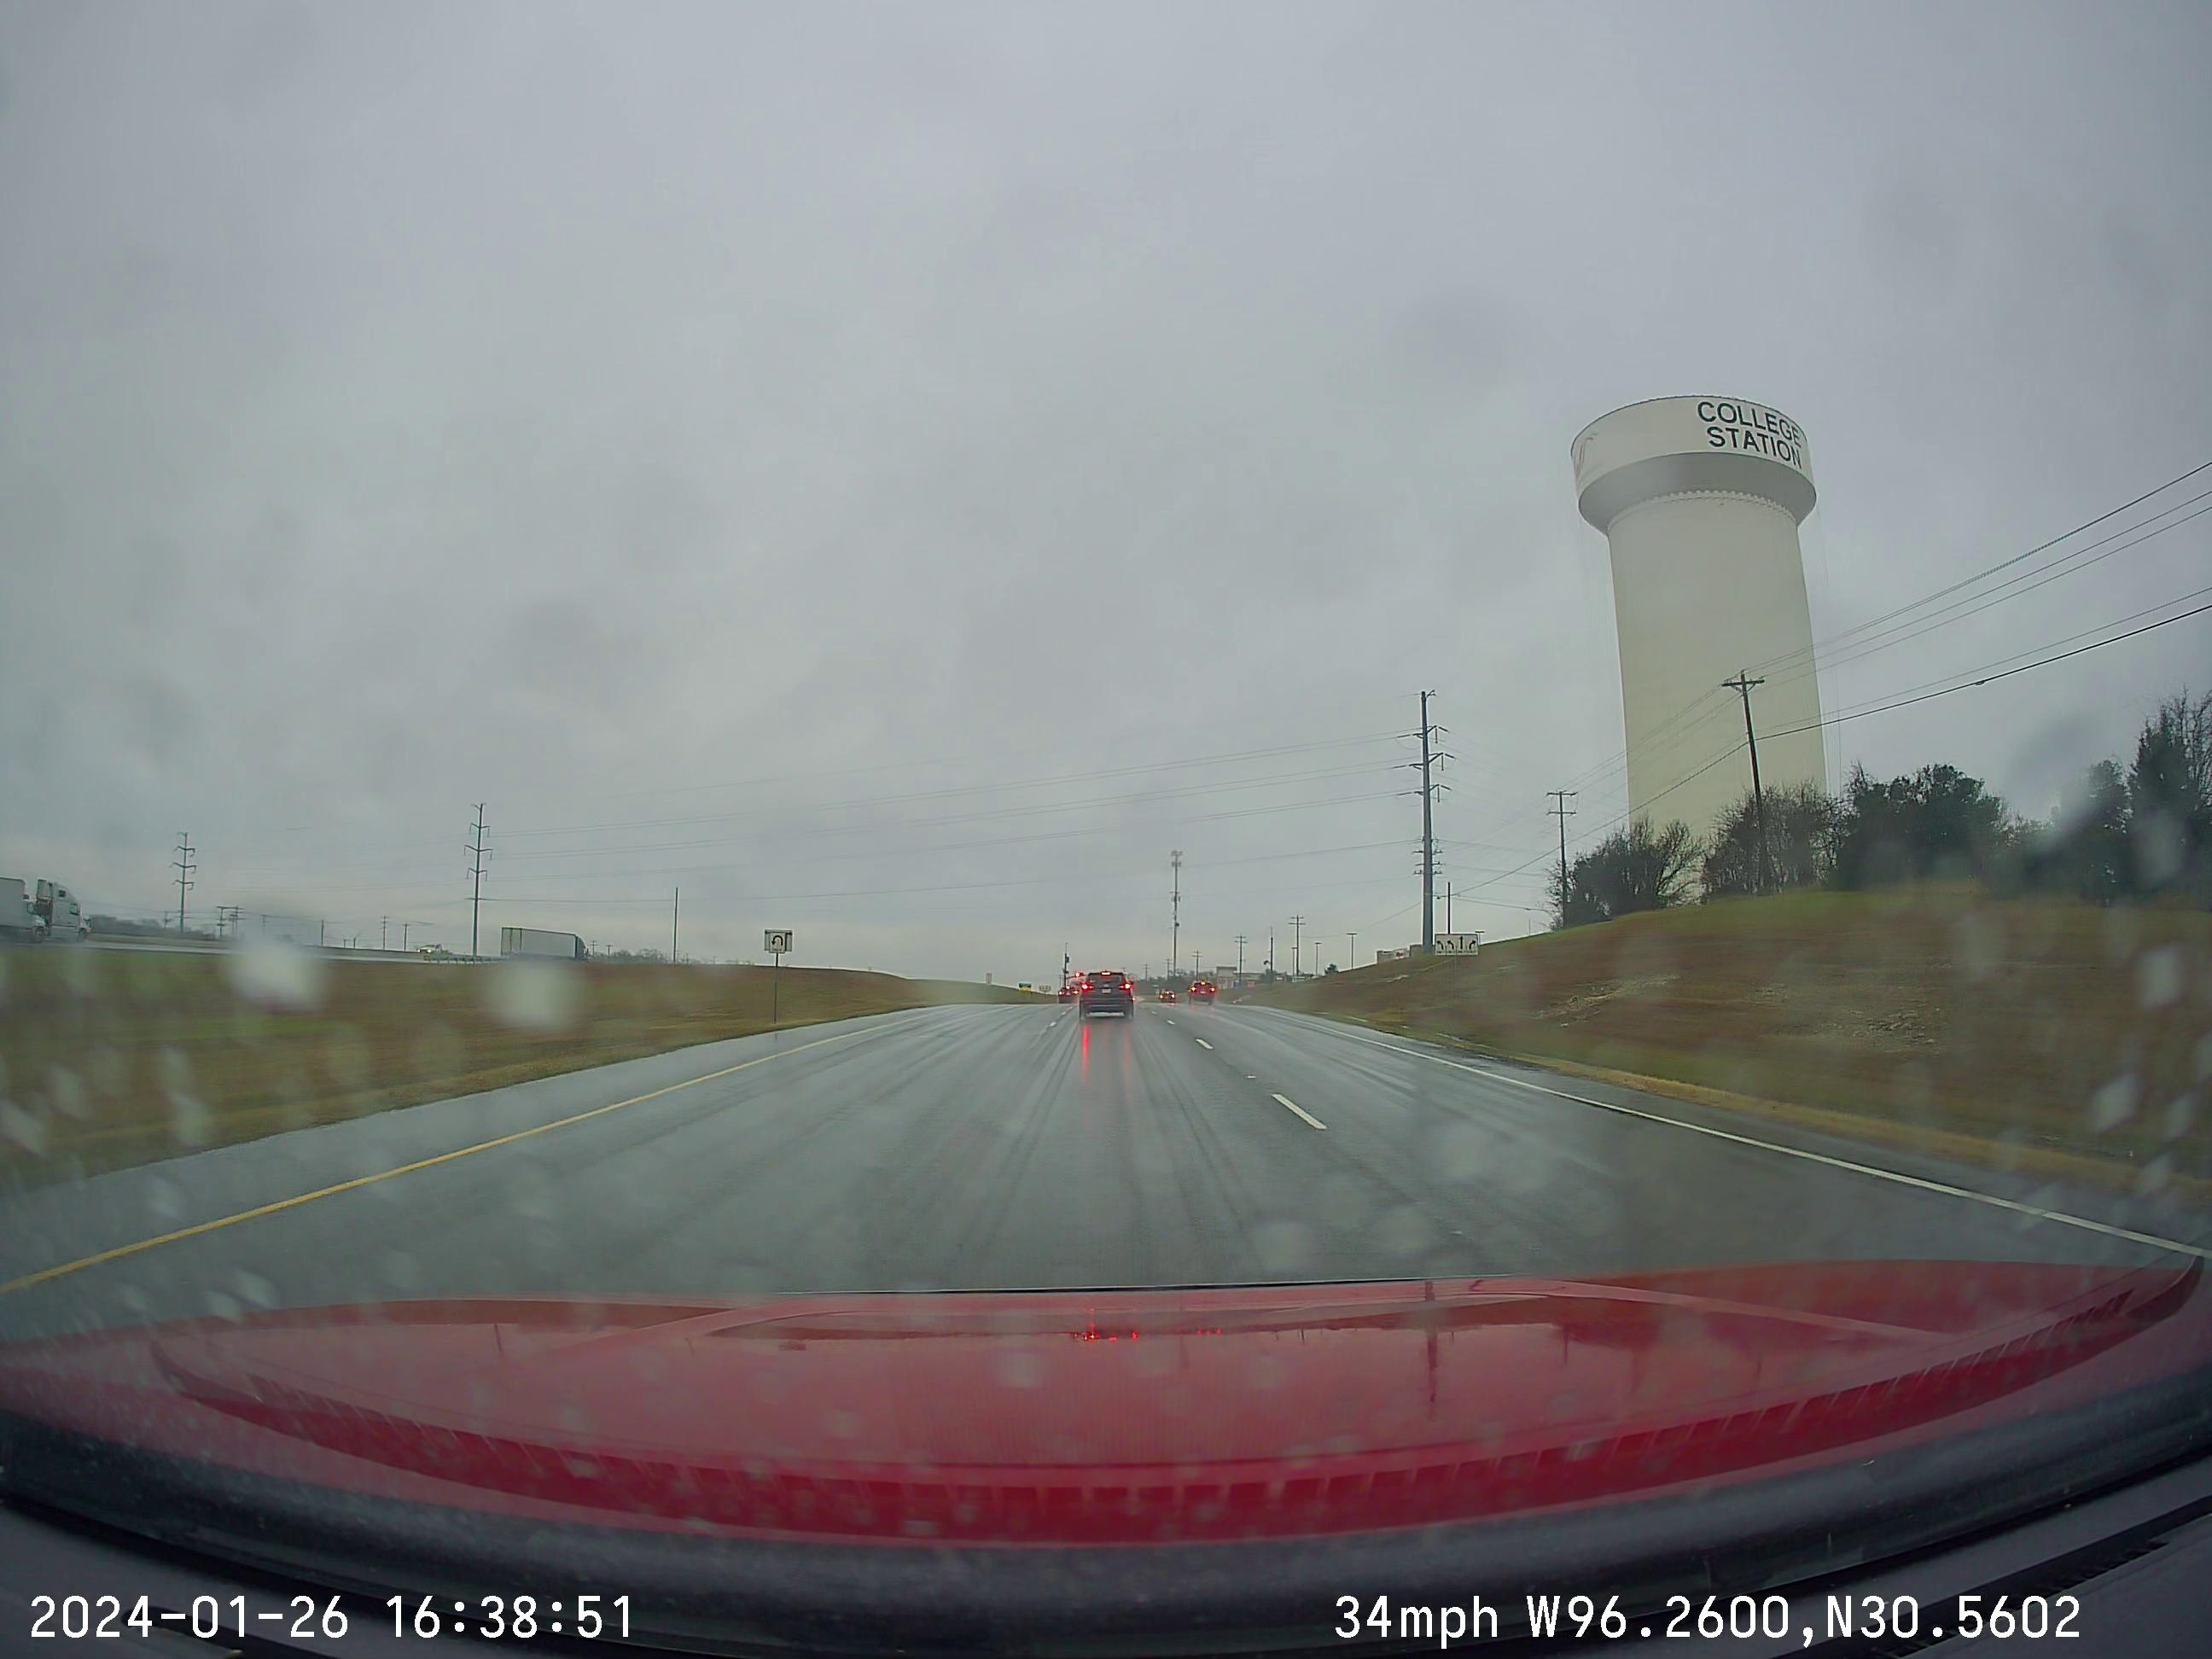car: (1076, 971, 1134, 1019)
